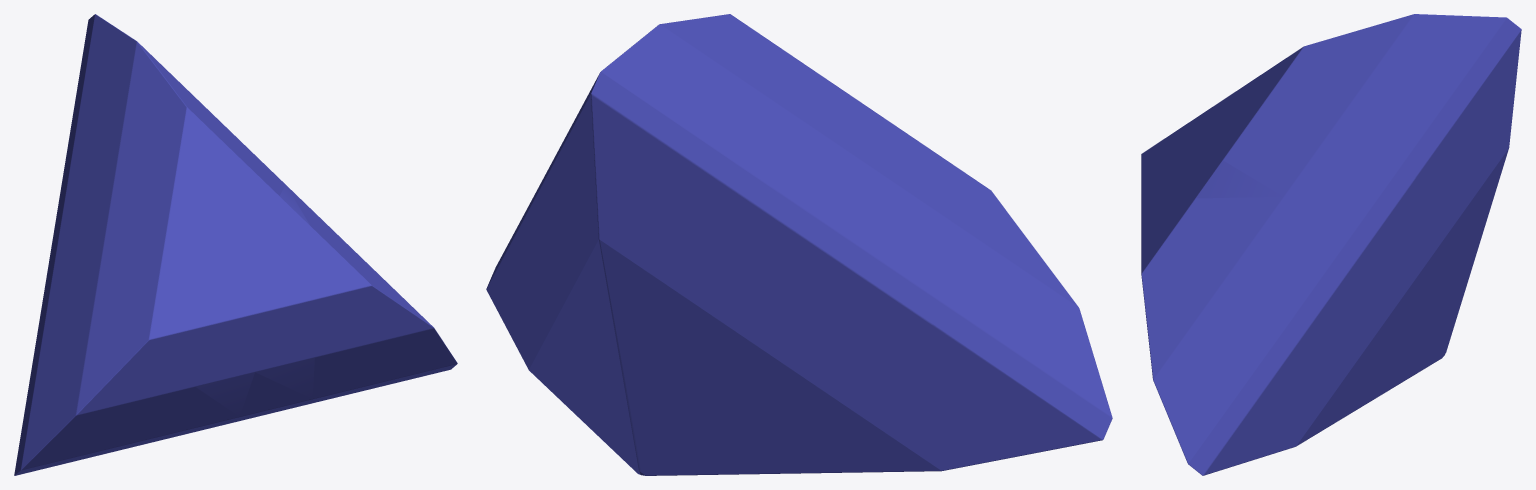
Rendered from tanzanite.glb.
3 renders of one model, left to right at view 1: azimuth 30°, elevation 25°; view 2: azimuth 150°, elevation 25°; view 3: azimuth 270°, elevation 25°, orthographic. The views are drawn at different scales.
Visible parts, largest first — view 1: tanzanite.001; view 2: tanzanite.001; view 3: tanzanite.001.
Part boxes in pixels (x1,y1,x2,y2): tanzanite.001: [14, 14, 457, 475]; tanzanite.001: [486, 14, 1112, 475]; tanzanite.001: [1141, 14, 1521, 475].
Bounding box in the file's own units: 2.4 × 1.68 × 1.63.
